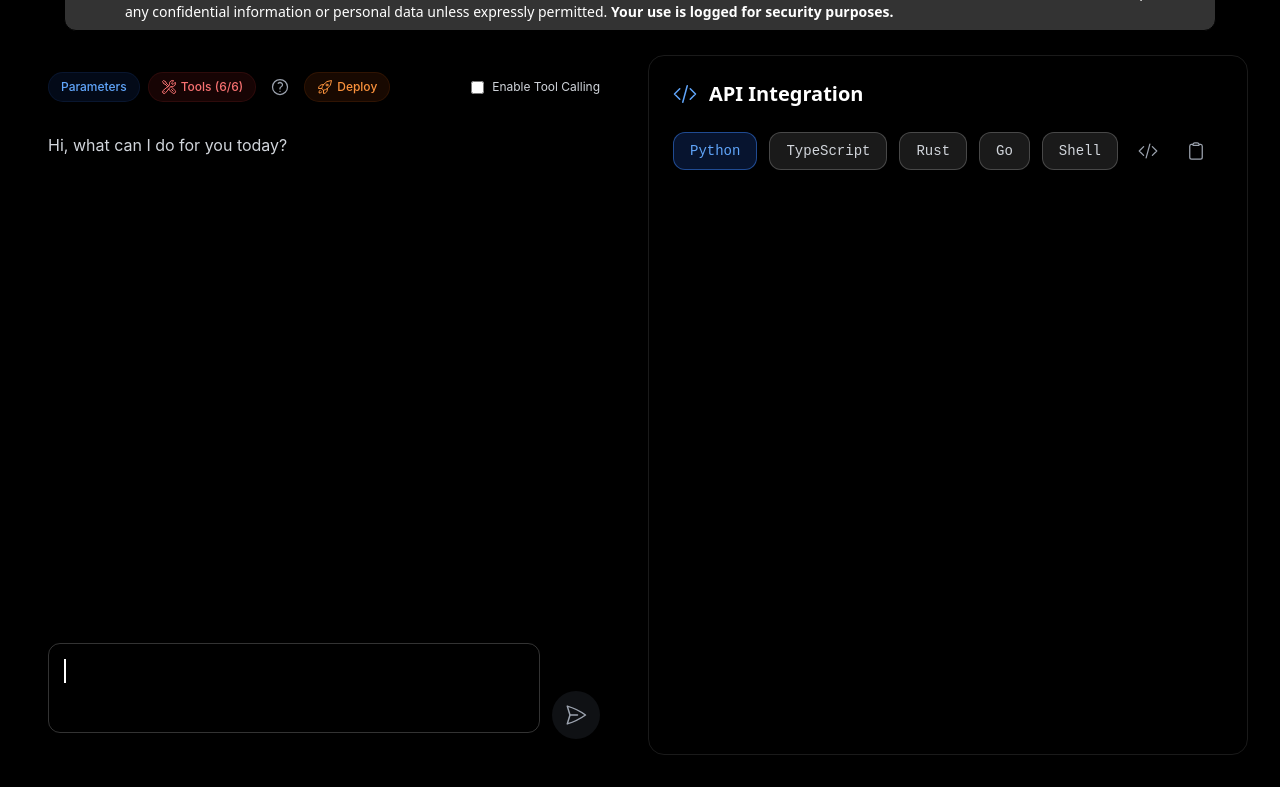
Test: ModelDetail Component › Parameters Panel › should render parameters panel when toggled
(page scrolled)
Expected: the field is shown, [48,643,540,733]
Step 1. Click the button "Parameters" → (94, 87), box [48,72,140,102]
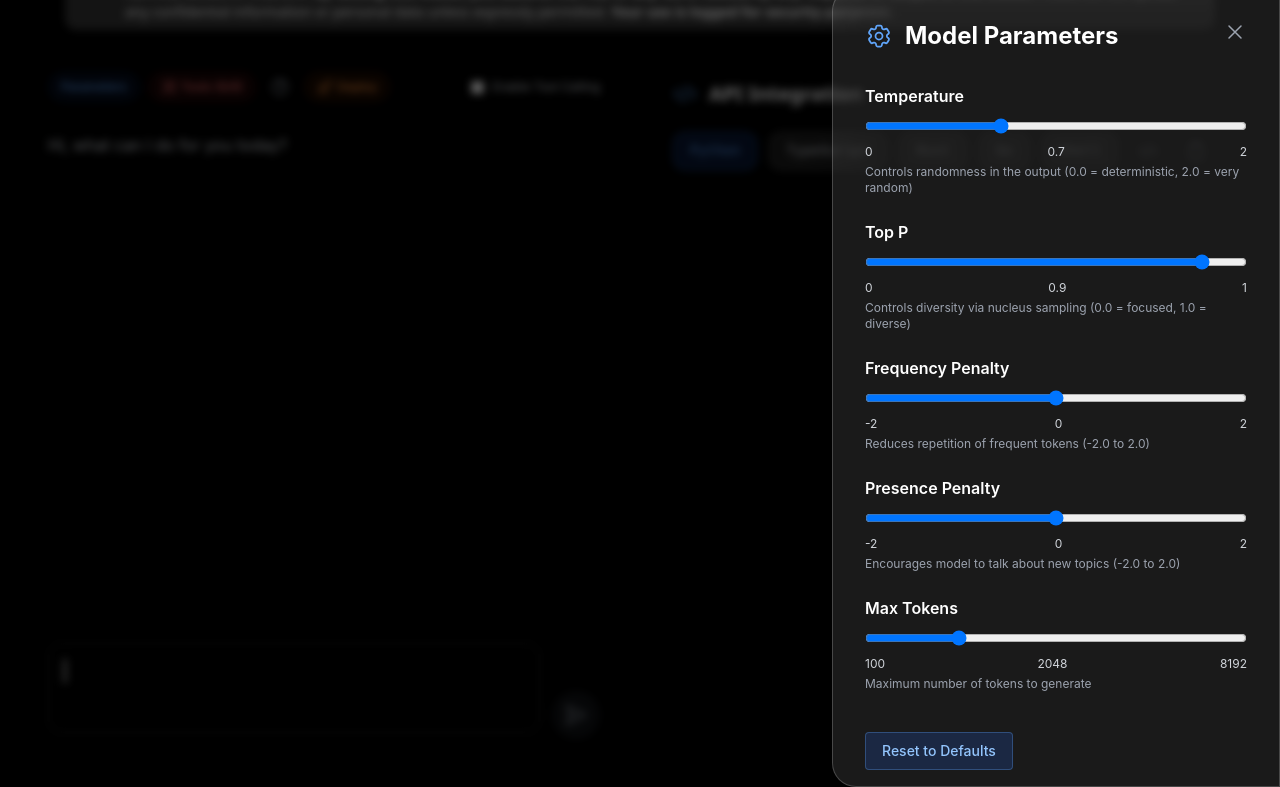
Now the text "Temperature" is shown, box [865,86,964,106]
Now the text "Max Tokens" is shown, box [865,598,958,618]
Now the text "Top P" is shown, box [865,222,908,242]
